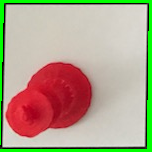Red King: (5, 60, 94, 140)
